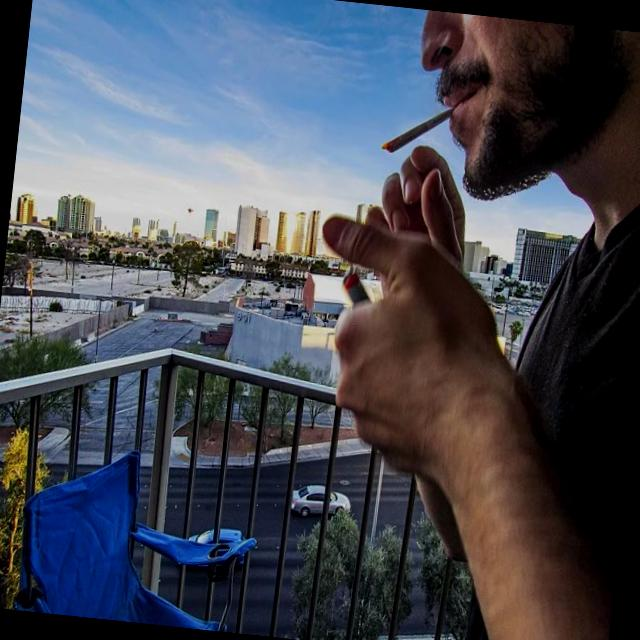cigarette: (378, 92, 458, 162)
